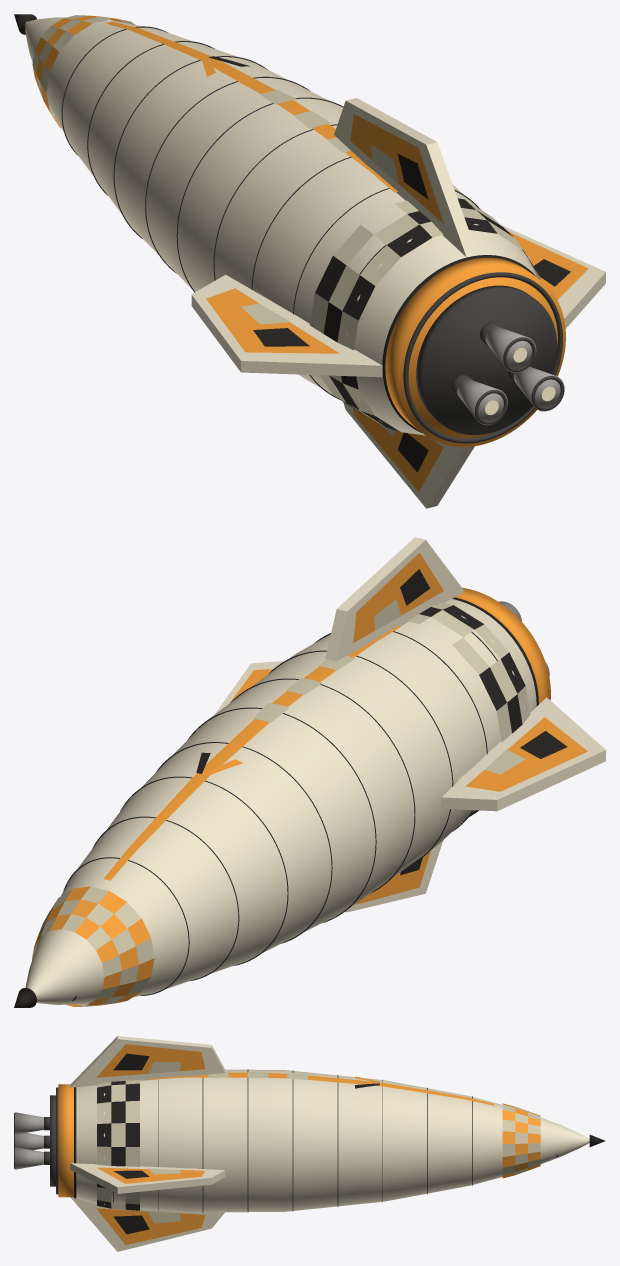
Rendered from Ship_LunarCourier_95901.glb.
The picture shows the model from 3 angles, top to bottom: view 1: azimuth 30°, elevation 25°; view 2: azimuth 150°, elevation 25°; view 3: azimuth 270°, elevation 25°; orthographic projection. The views are drawn at different scales.
Visible parts, largest first — view 1: Fuselage_TaperedPaintedBody, EngineDeck_AftDarkMountPlate, AftCollar_PrimaryEngineBand, TailFin_Left_slender_CreamAerofoil, TailFin_Dorsal_slender_CreamAerofoil, TailFinPanel_Left_PrimarySide_B, AftTrimRing_DarkRear, TailFinPanel_Dorsal_PrimarySide_A, TailFin_Ventral_slender_CreamAerofoil, PaintStripe_DorsalPrimarySpine, TailFinPanel_Ventral_PrimarySide_B, TailFin_Right_slender_CreamAerofoil (+14 smaller); view 2: Fuselage_TaperedPaintedBody, TailFin_Left_slender_CreamAerofoil, NoseCone_PaintedNeedleSection, TailFin_Dorsal_slender_CreamAerofoil, PaintStripe_DorsalPrimarySpine, TailFinPanel_Left_PrimarySide_B, TailFinPanel_Dorsal_PrimarySide_A, AftCollar_PrimaryEngineBand, TailFinPanel_Ventral_PrimarySide_B, TailFin_Ventral_slender_CreamAerofoil, TailFinCheckerPatch_Left_01_B; view 3: Fuselage_TaperedPaintedBody, TailFin_Dorsal_slender_CreamAerofoil, TailFin_Right_slender_CreamAerofoil, AftCollar_PrimaryEngineBand, TailFinPanel_Ventral_PrimarySide_A, TailFinPanel_Dorsal_PrimarySide_B, TailFin_Ventral_slender_CreamAerofoil, NoseCone_PaintedNeedleSection, PaintStripe_DorsalPrimarySpine, TailFinPanel_Right_PrimarySide_A, EngineDeck_AftDarkMountPlate, EngineBell_Upper_BurnishedNozzle (+14 smaller).
Boxes of the visible parts, <box> form: Fuselage_TaperedPaintedBody: <box>46,19,537,433</box>; EngineDeck_AftDarkMountPlate: <box>416,285,557,434</box>; AftCollar_PrimaryEngineBand: <box>385,257,565,446</box>; TailFin_Left_slender_CreamAerofoil: <box>191,274,382,377</box>; TailFin_Dorsal_slender_CreamAerofoil: <box>334,98,477,257</box>; TailFinPanel_Left_PrimarySide_B: <box>206,288,339,353</box>; AftTrimRing_DarkRear: <box>403,272,562,443</box>; TailFinPanel_Dorsal_PrimarySide_A: <box>350,114,443,223</box>; TailFin_Ventral_slender_CreamAerofoil: <box>343,402,474,508</box>; PaintStripe_DorsalPrimarySpine: <box>106,22,397,192</box>; TailFinPanel_Ventral_PrimarySide_B: <box>353,408,443,491</box>; TailFin_Right_slender_CreamAerofoil: <box>501,225,605,328</box>; Fuselage_TaperedPaintedBody: <box>61,599,536,996</box>; TailFin_Left_slender_CreamAerofoil: <box>441,697,605,811</box>; NoseCone_PaintedNeedleSection: <box>25,929,104,1004</box>; TailFin_Dorsal_slender_CreamAerofoil: <box>325,537,464,661</box>; PaintStripe_DorsalPrimarySpine: <box>104,625,401,880</box>; TailFinPanel_Left_PrimarySide_B: <box>465,717,587,791</box>; TailFinPanel_Dorsal_PrimarySide_A: <box>353,553,443,642</box>; AftCollar_PrimaryEngineBand: <box>455,587,550,703</box>; TailFinPanel_Ventral_PrimarySide_B: <box>356,850,430,904</box>; TailFin_Ventral_slender_CreamAerofoil: <box>345,840,443,912</box>; TailFinCheckerPatch_Left_01_B: <box>520,731,567,758</box>; Fuselage_TaperedPaintedBody: <box>76,1069,502,1212</box>; TailFin_Dorsal_slender_CreamAerofoil: <box>70,1036,225,1087</box>; TailFin_Right_slender_CreamAerofoil: <box>70,1163,225,1193</box>; AftCollar_PrimaryEngineBand: <box>58,1084,73,1197</box>; TailFinPanel_Ventral_PrimarySide_A: <box>96,1208,205,1245</box>; TailFinPanel_Dorsal_PrimarySide_B: <box>96,1044,205,1077</box>; TailFin_Ventral_slender_CreamAerofoil: <box>70,1197,224,1251</box>; NoseCone_PaintedNeedleSection: <box>540,1117,589,1163</box>; PaintStripe_DorsalPrimarySpine: <box>150,1072,494,1105</box>; TailFinPanel_Right_PrimarySide_A: <box>97,1167,204,1183</box>; EngineDeck_AftDarkMountPlate: <box>50,1095,55,1186</box>; EngineBell_Upper_BurnishedNozzle: <box>15,1112,43,1134</box>.
Size of the model in its own units: 3.53 by 3.36 by 8.49.
